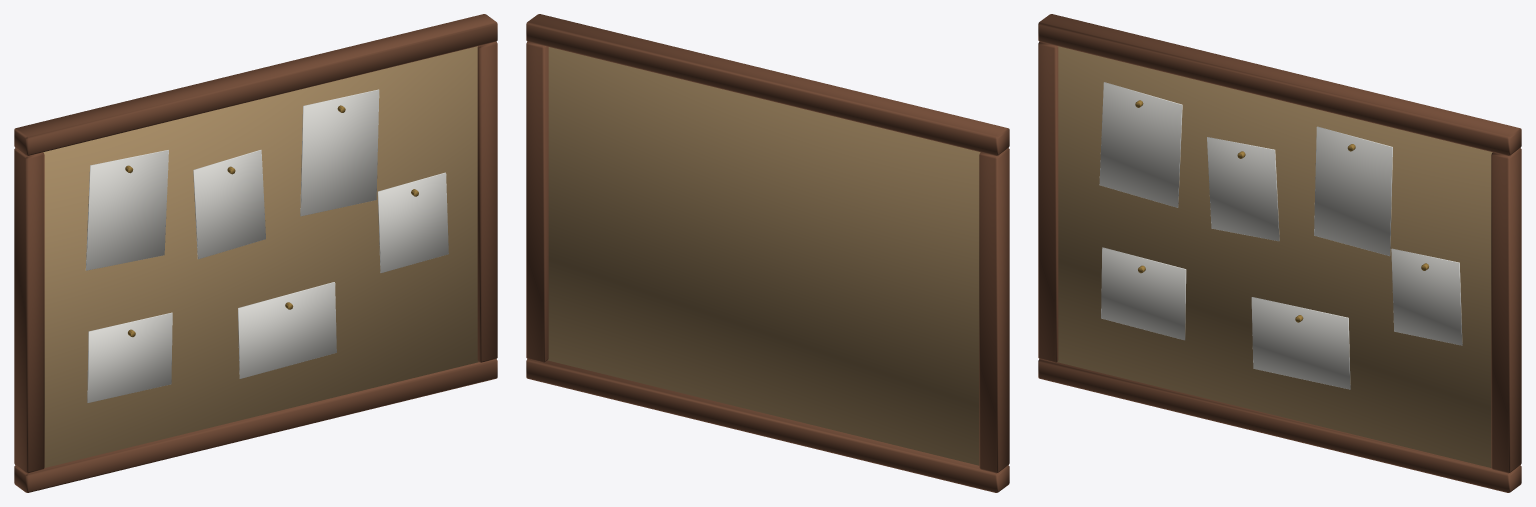
Rendered from asset_086_corkboard_noticeboard.glb.
3 views of the same model, side by side, from view 1: azimuth 30°, elevation 25°; view 2: azimuth 150°, elevation 25°; view 3: azimuth 330°, elevation 25° (orthographic).
Visible parts, largest first — view 1: MESH_CorkPanel, MESH_CorkNote_Content, MESH_CorkFrame_Top, MESH_CorkFrame_Bottom, MESH_CorkFrame_Left, MESH_CorkFrame_Right; view 2: MESH_CorkPanel, MESH_CorkFrame_Top, MESH_CorkFrame_Bottom, MESH_CorkFrame_Left, MESH_CorkFrame_Right; view 3: MESH_CorkPanel, MESH_CorkNote_Content, MESH_CorkFrame_Top, MESH_CorkFrame_Bottom, MESH_CorkFrame_Right, MESH_CorkFrame_Left.
Boxes of the visible parts, x1,y1,x2,y2 form: MESH_CorkPanel: (43, 46, 478, 467); MESH_CorkNote_Content: (85, 89, 448, 402); MESH_CorkFrame_Top: (14, 14, 497, 155); MESH_CorkFrame_Bottom: (14, 359, 497, 492); MESH_CorkFrame_Left: (14, 148, 44, 473); MESH_CorkFrame_Right: (477, 41, 497, 362); MESH_CorkPanel: (548, 47, 980, 465); MESH_CorkFrame_Top: (526, 14, 1009, 155); MESH_CorkFrame_Bottom: (526, 359, 1009, 492); MESH_CorkFrame_Left: (979, 148, 1009, 473); MESH_CorkFrame_Right: (526, 41, 548, 362); MESH_CorkPanel: (1057, 46, 1492, 467); MESH_CorkNote_Content: (1099, 82, 1462, 389); MESH_CorkFrame_Top: (1038, 14, 1521, 155); MESH_CorkFrame_Bottom: (1038, 359, 1521, 492); MESH_CorkFrame_Right: (1491, 148, 1521, 473); MESH_CorkFrame_Left: (1038, 41, 1058, 362).
Size of the model in its own units: 0.9 by 0.65 by 0.05.
